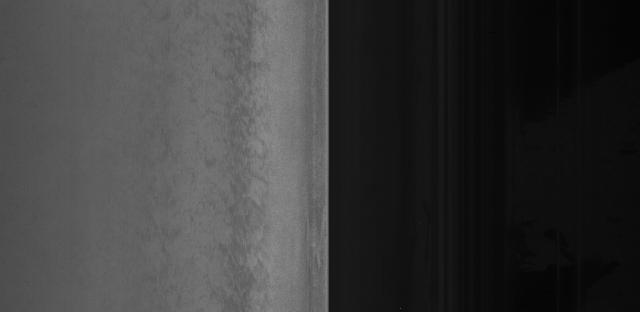silk_spot: (212, 108, 290, 209)
